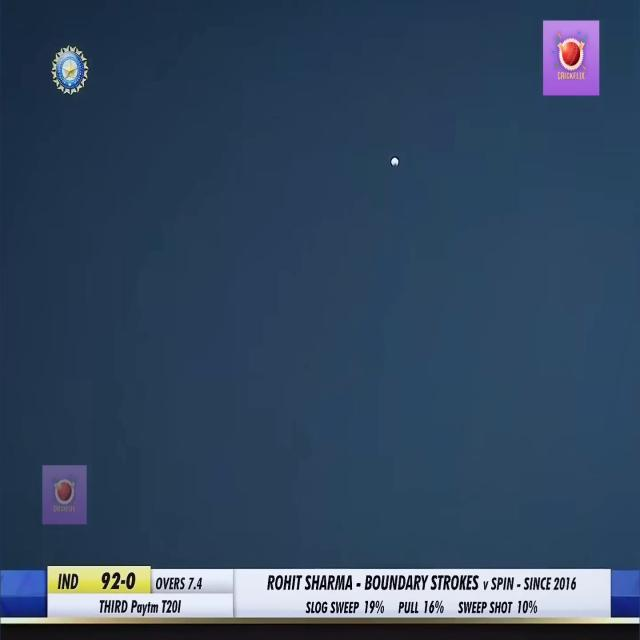fully_visible: (130, 594, 160, 615)
